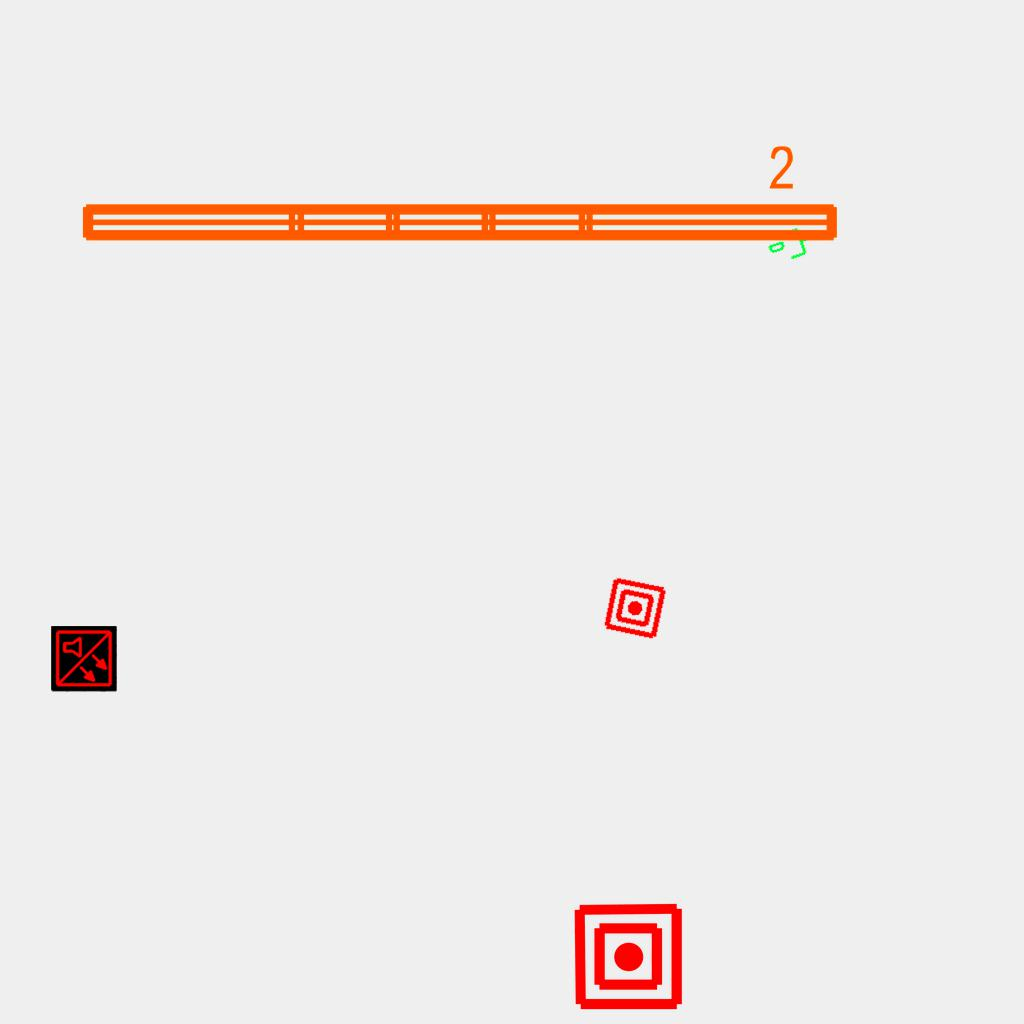Ambulanz_Pendelleuchte_LED: (72, 141, 846, 253)
Datenanschluss_einfach: (763, 220, 823, 270)
NAM-Nichtautomatischer_Melder: (572, 900, 685, 1013), (601, 574, 669, 642)
OKW_Multisensormelder_(Kombination_optischer_Rauch-Kahlenmonoxid_Waerme-Melder): (51, 626, 117, 692)
